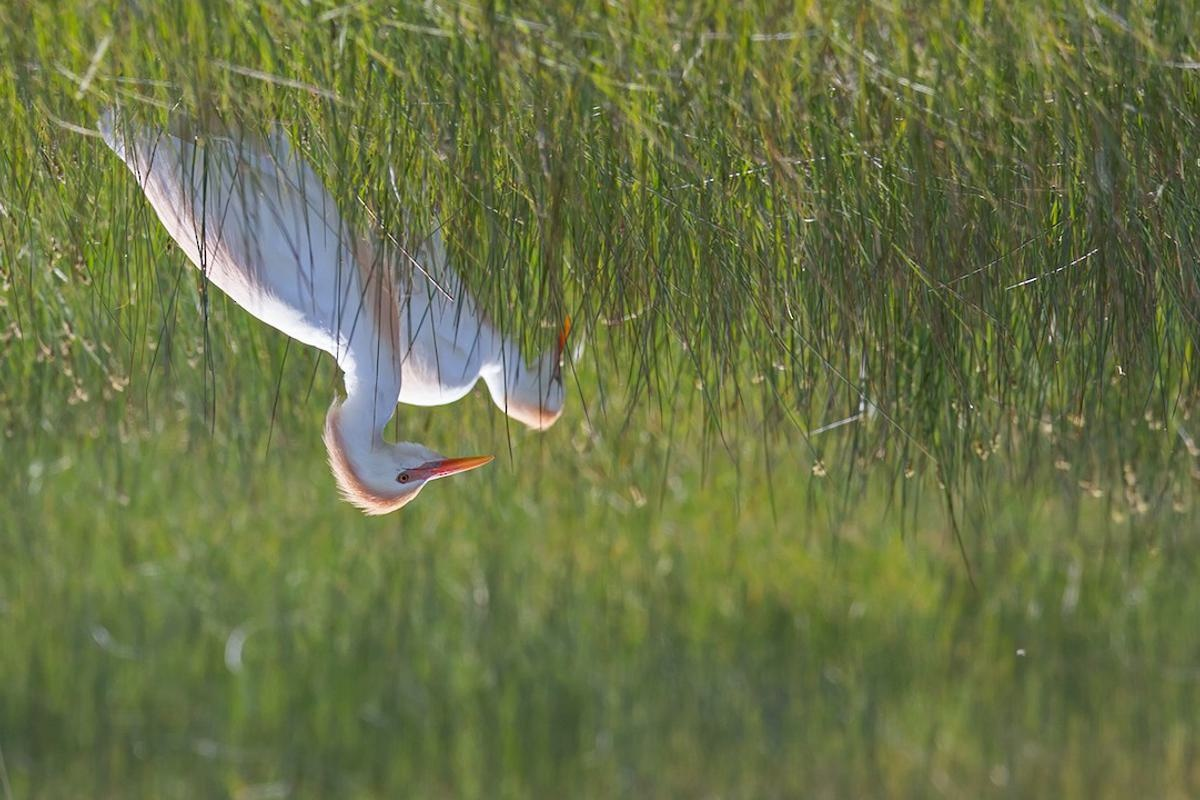egret: (102, 65, 495, 513), (396, 224, 568, 451)
